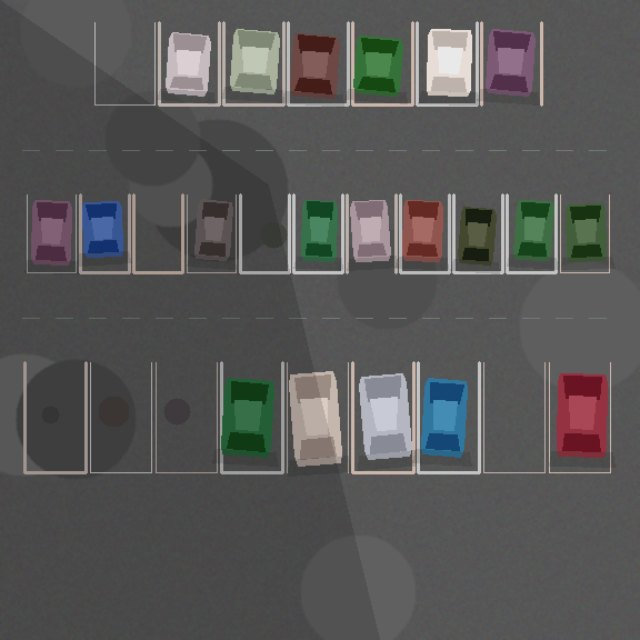space-empty: (24, 362, 86, 472), (90, 362, 151, 472), (156, 362, 217, 472), (483, 362, 544, 472), (94, 22, 154, 104), (133, 194, 182, 272), (240, 194, 289, 272)
space-occupied: (221, 362, 282, 472), (287, 362, 348, 472), (352, 362, 413, 472), (418, 362, 479, 472), (549, 362, 610, 472), (159, 22, 219, 104), (223, 22, 283, 104), (288, 22, 348, 104), (352, 22, 412, 104), (417, 22, 477, 104), (481, 22, 541, 104), (27, 194, 76, 272), (80, 194, 129, 272), (187, 194, 236, 272), (293, 194, 342, 272), (347, 194, 396, 272), (400, 194, 449, 272), (453, 194, 502, 272), (507, 194, 556, 272), (560, 194, 609, 272)
